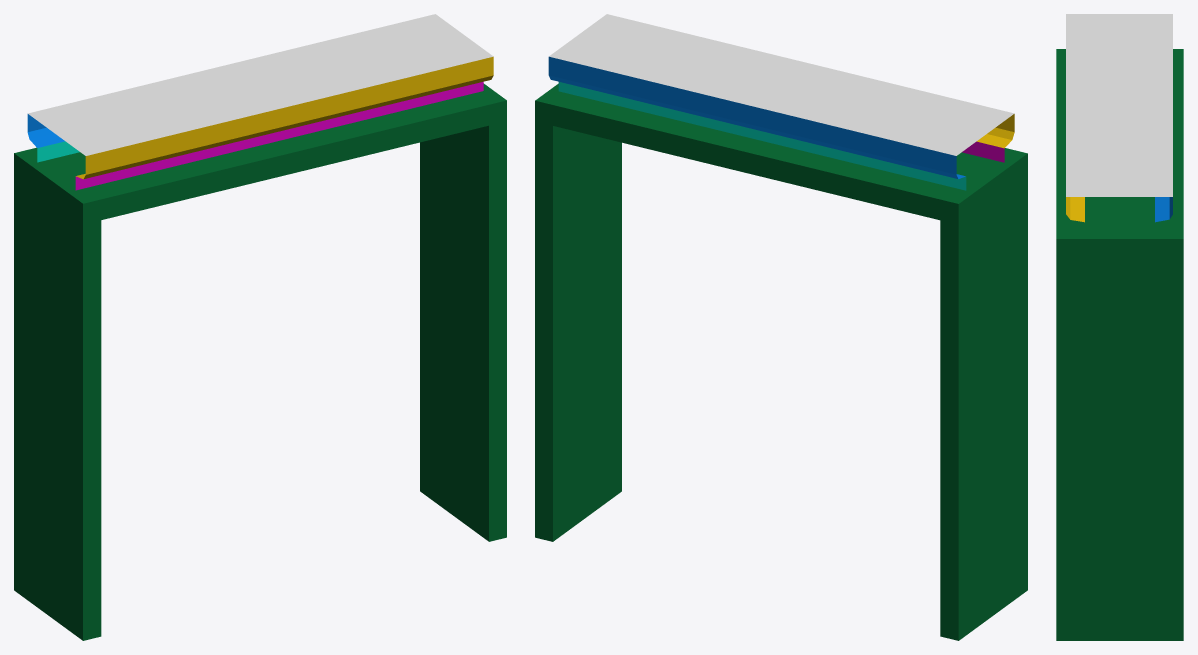
Rendered from Wall_door.fbx.
3 views of the same model, side by side, from view 1: azimuth 30°, elevation 25°; view 2: azimuth 150°, elevation 25°; view 3: azimuth 270°, elevation 25° (orthographic). The views are drawn at different scales.
Visible parts, largest first — view 1: Door; view 2: Door; view 3: Door.
Part boxes in pixels (x1,y1,x2,y2): Door: (14,14,506,640); Door: (535,14,1027,640); Door: (1056,14,1183,640).
Size of the model in its own units: 208 by 224 by 58.73.
